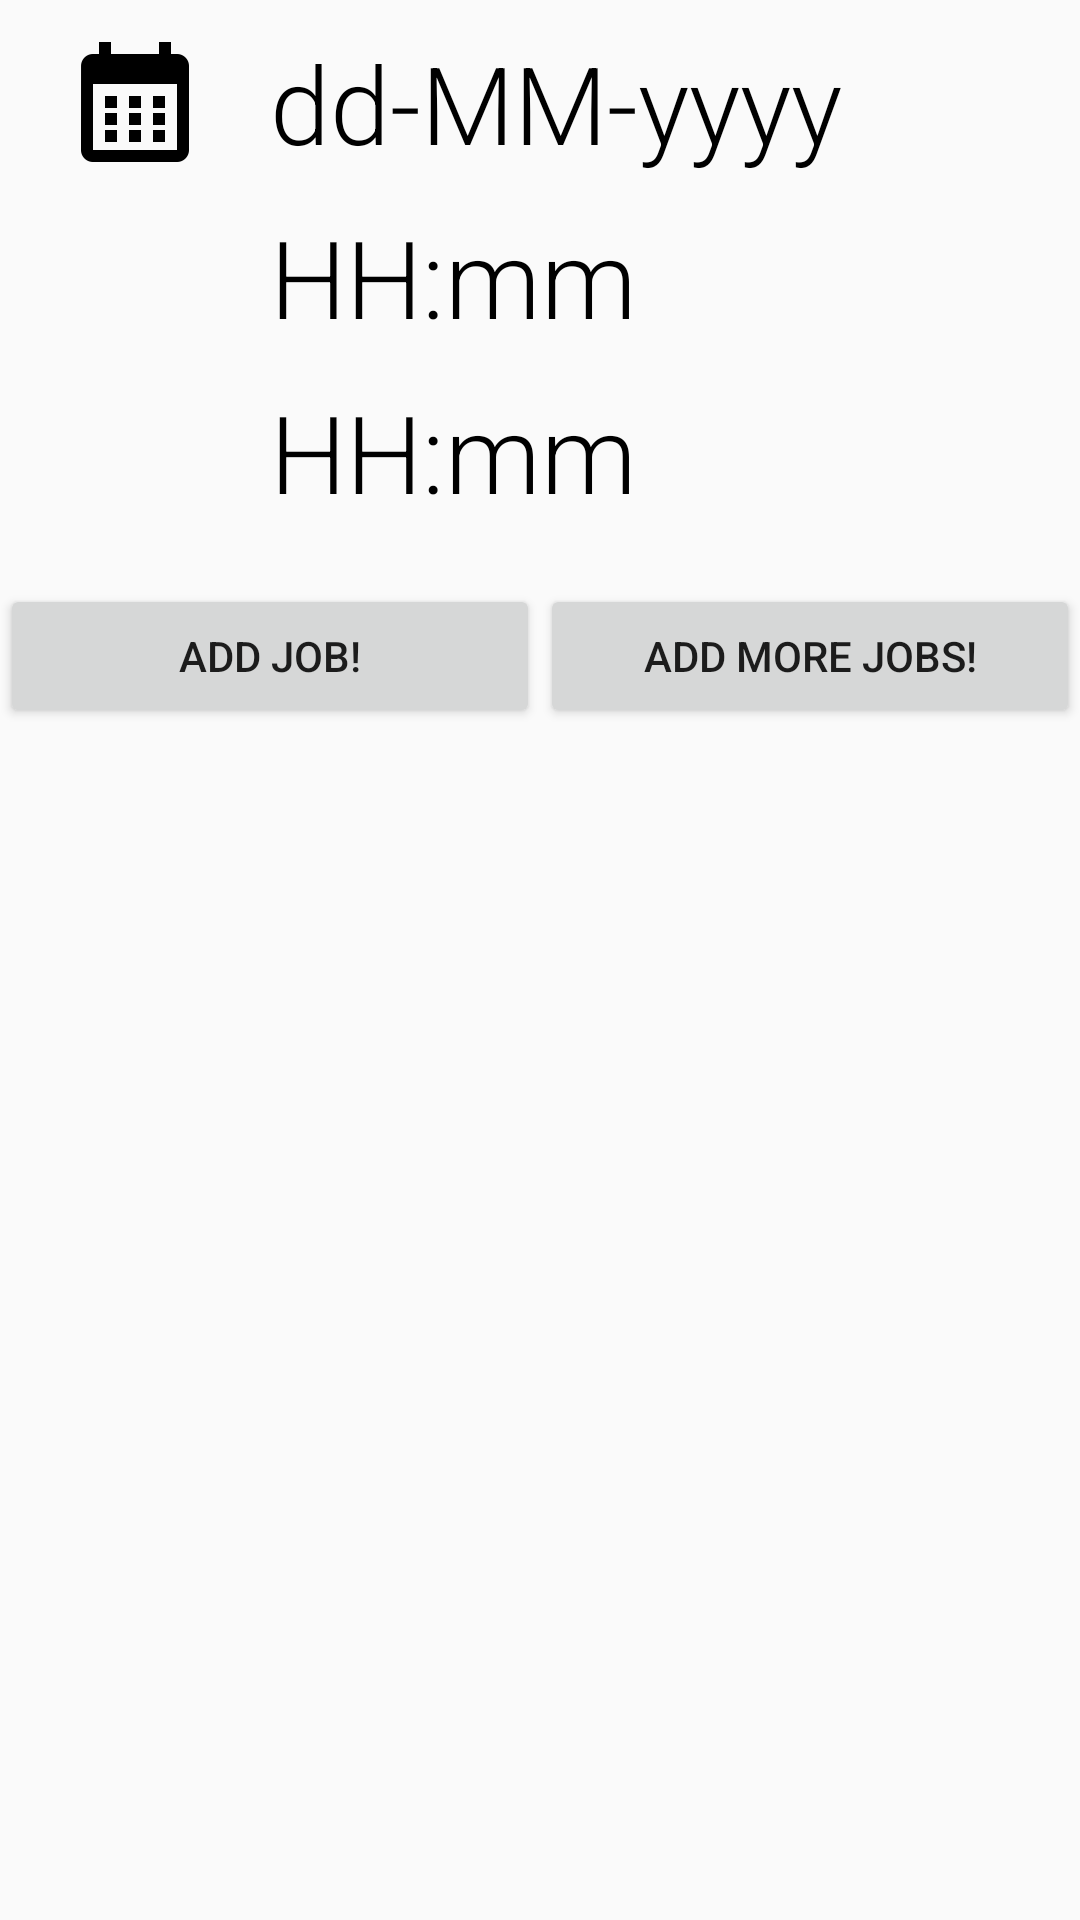

Locate icon controls on the screen. Image size 1080*1920, boxes as (x1, y1, x2, y2).
Date: (81, 42, 189, 162)
